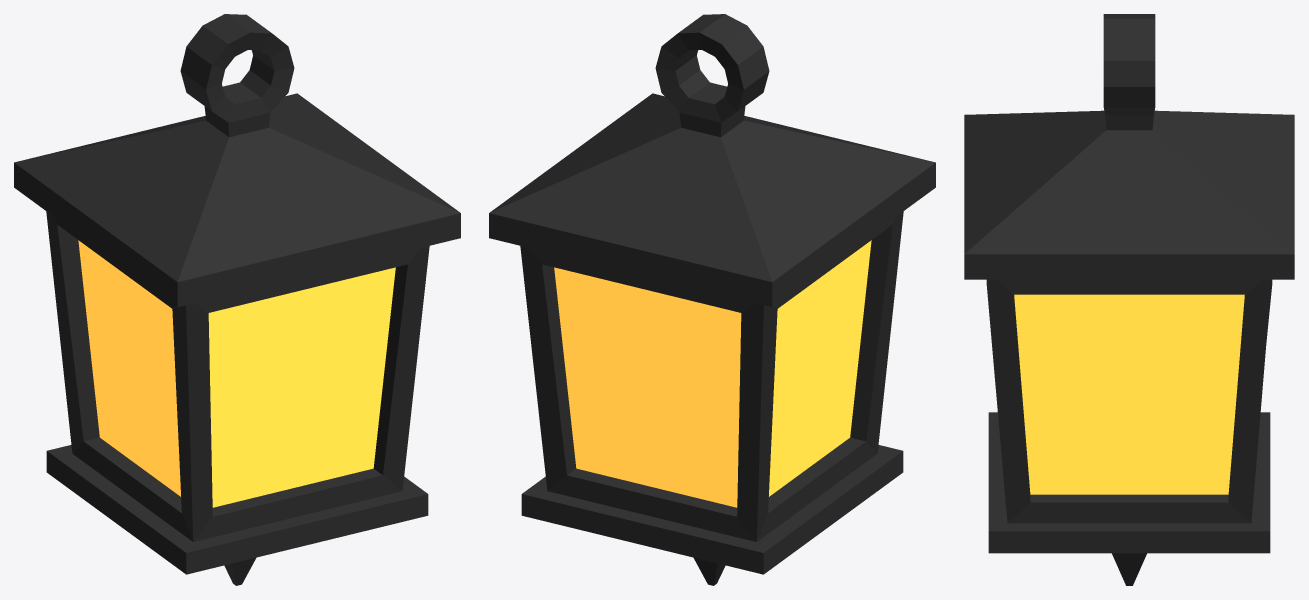
The model's file is lantern.glb.
3 views of the same model, side by side, from view 1: azimuth 30°, elevation 25°; view 2: azimuth 150°, elevation 25°; view 3: azimuth 270°, elevation 25° (orthographic).
Parts seen in each view (by area): view 1: Lantern.002; view 2: Lantern.002; view 3: Lantern.002.
Boxes of the visible parts, left/top/right/bottom form: Lantern.002: left=14, top=14, right=460, bottom=585; Lantern.002: left=489, top=14, right=935, bottom=585; Lantern.002: left=964, top=14, right=1294, bottom=585.
Size of the model in its own units: 2.31 by 4.37 by 2.31.
